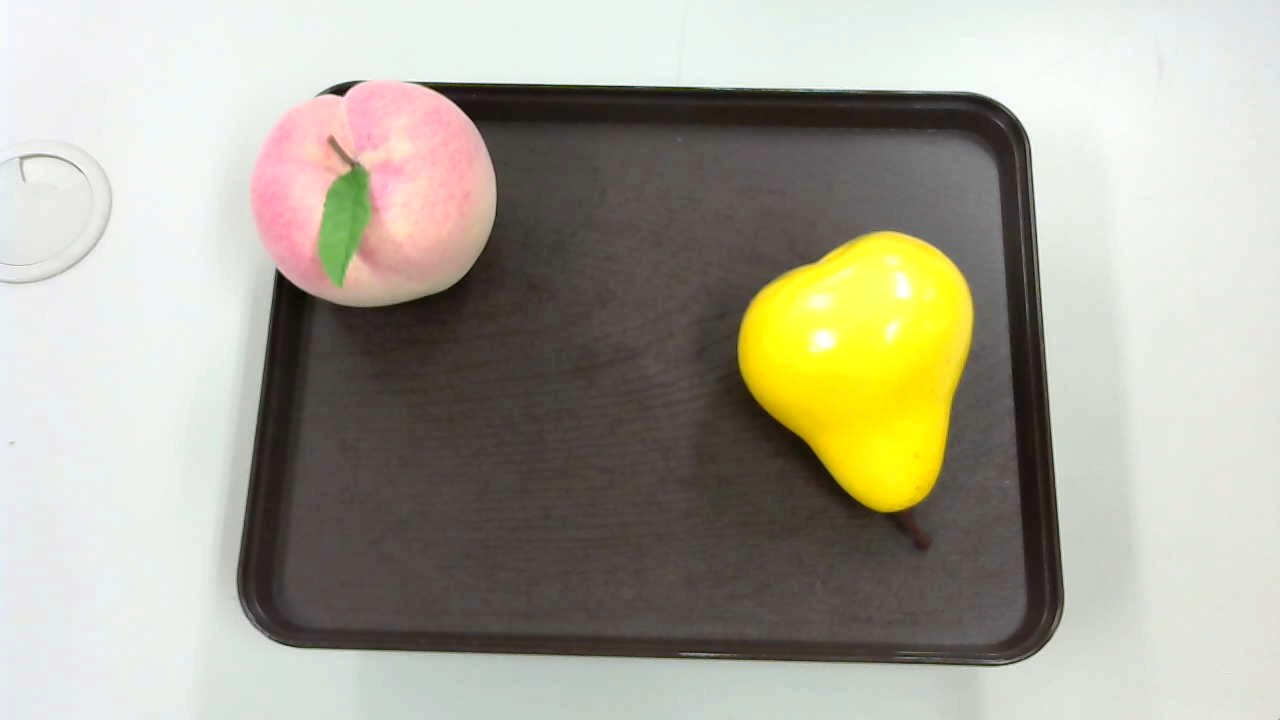peach: (256, 79, 496, 305)
yellow pear: (738, 228, 973, 553)
